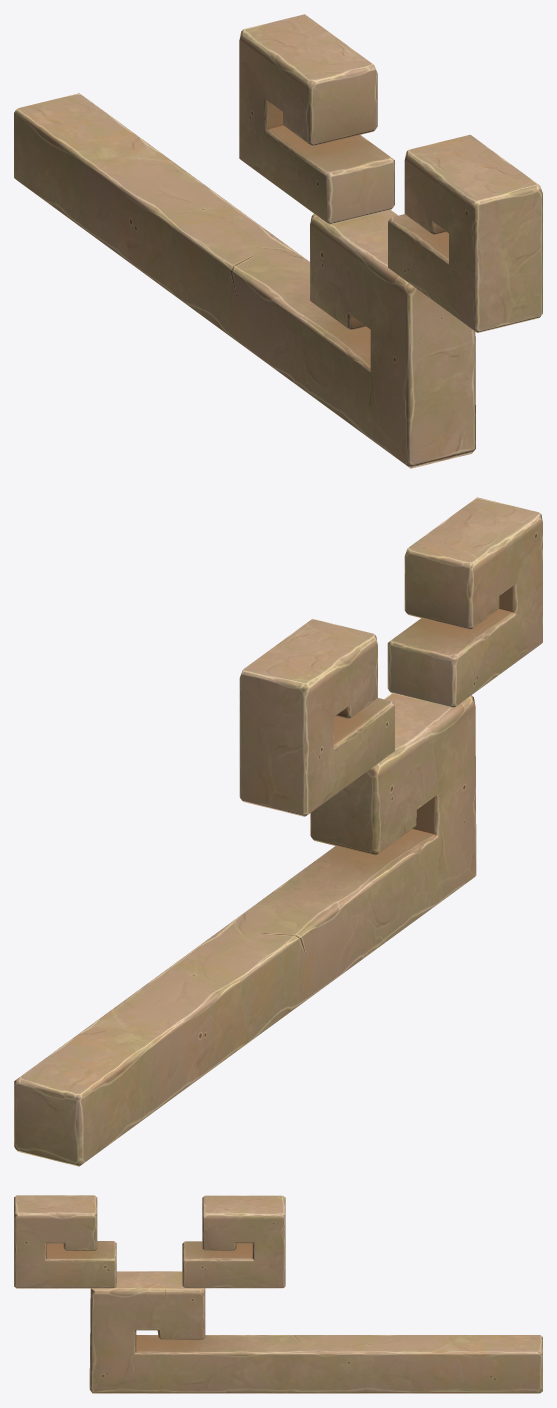
File: SM_Wall_Detail_3.fbx
The picture shows the model from 3 angles, top to bottom: view 1: azimuth 30°, elevation 25°; view 2: azimuth 150°, elevation 25°; view 3: azimuth 270°, elevation 25°; orthographic projection. The views are drawn at different scales.
Parts seen in each view (by area): view 1: SM_Wall_Detail_3_LOD0; view 2: SM_Wall_Detail_3_LOD0; view 3: SM_Wall_Detail_3_LOD0.
Boxes of the visible parts, left/top/right/bottom form: SM_Wall_Detail_3_LOD0: left=14, top=14, right=542, bottom=468; SM_Wall_Detail_3_LOD0: left=14, top=497, right=542, bottom=1166; SM_Wall_Detail_3_LOD0: left=14, top=1195, right=542, bottom=1393.
Bounding box in the file's own units: 21.59 × 250 × 94.25.
1 material, 1 textured.
